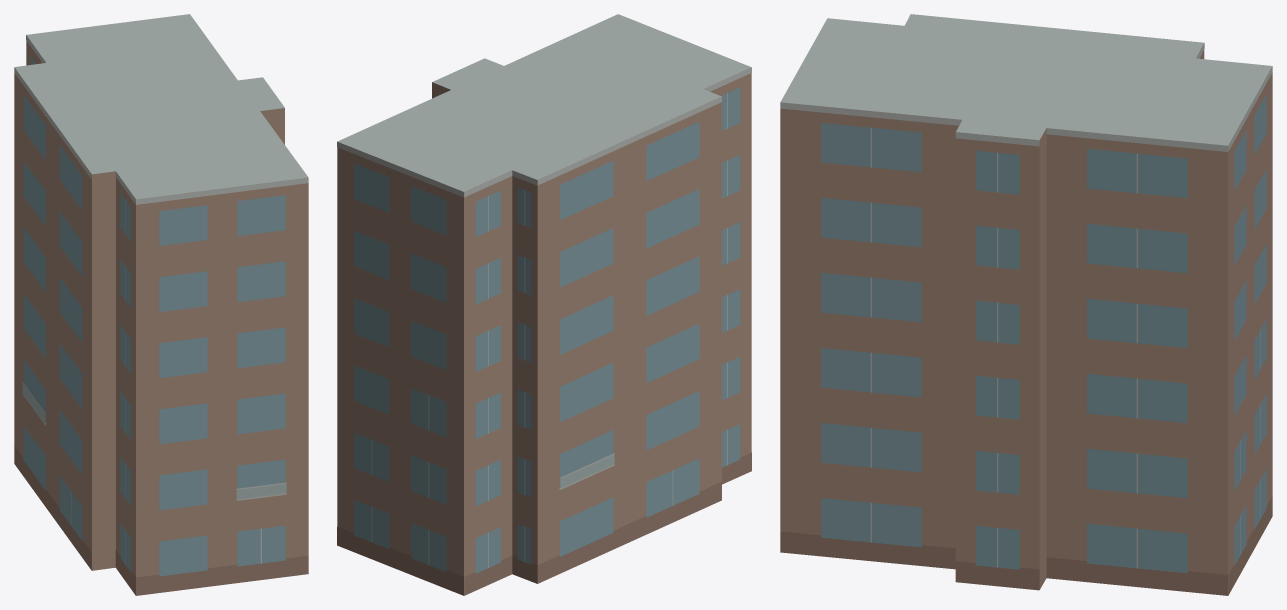
File: survey-upis-32936067.glb
The picture shows the model from 3 angles, left to right: view 1: azimuth 30°, elevation 25°; view 2: azimuth 150°, elevation 25°; view 3: azimuth 270°, elevation 25°; orthographic projection. The views are drawn at different scales.
Parts seen in each view (by area): view 1: survey-upis-32936067.tmp; view 2: survey-upis-32936067.tmp; view 3: survey-upis-32936067.tmp.
Part boxes in pixels (bbox=[...]): survey-upis-32936067.tmp: bbox=[14, 14, 308, 595]; survey-upis-32936067.tmp: bbox=[337, 14, 751, 595]; survey-upis-32936067.tmp: bbox=[780, 14, 1272, 595].
Bounding box in the file's own units: 11.03 × 17.55 × 17.41.
